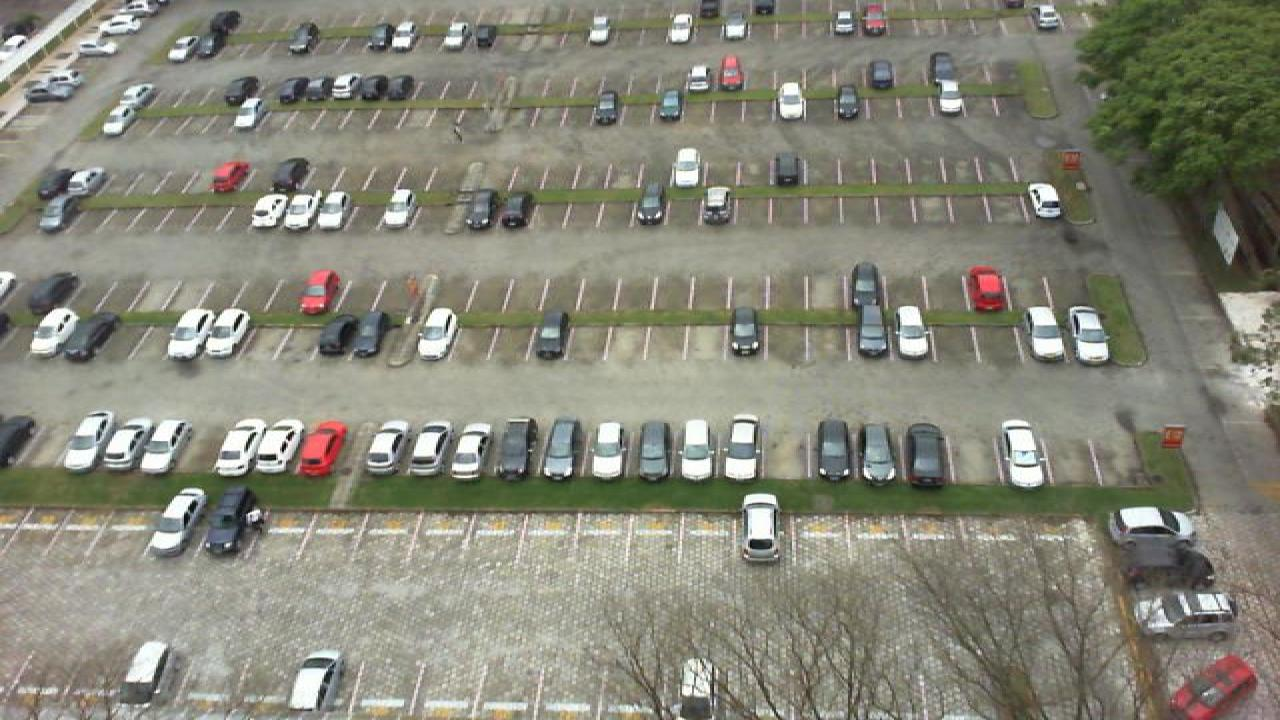Car: (1170, 655, 1260, 720), (1130, 590, 1236, 640), (204, 485, 266, 558), (144, 487, 204, 559), (286, 649, 346, 720), (1108, 506, 1198, 548), (118, 641, 172, 709), (1000, 418, 1048, 490), (60, 411, 116, 472), (212, 417, 268, 477), (904, 421, 950, 489), (738, 492, 782, 562), (256, 416, 306, 476), (492, 416, 536, 484), (138, 419, 192, 474), (98, 417, 152, 472), (66, 312, 122, 364), (404, 420, 454, 477), (296, 421, 346, 478), (362, 420, 410, 478), (28, 306, 80, 359), (722, 415, 762, 483), (204, 306, 254, 360), (676, 656, 718, 720), (164, 308, 214, 361), (632, 419, 674, 482), (538, 418, 580, 481), (1068, 304, 1112, 364), (316, 310, 368, 360), (676, 420, 718, 481), (1026, 304, 1070, 360), (448, 421, 490, 479), (814, 419, 852, 483), (860, 420, 898, 483), (416, 305, 458, 362), (588, 420, 626, 482), (28, 272, 82, 315), (894, 304, 934, 360), (296, 269, 342, 317), (964, 264, 1008, 314), (852, 306, 892, 360), (354, 310, 396, 359), (0, 415, 38, 469), (532, 311, 572, 361), (728, 305, 764, 359), (846, 261, 884, 311), (24, 70, 84, 101), (270, 155, 312, 195), (462, 187, 498, 232), (498, 189, 536, 231), (210, 160, 254, 196), (312, 190, 350, 231), (382, 186, 418, 229), (250, 194, 292, 230), (284, 191, 320, 231), (634, 184, 666, 228), (670, 146, 702, 190), (1028, 180, 1064, 219), (232, 97, 268, 134), (8, 200, 46, 235), (222, 74, 262, 107), (700, 185, 732, 226), (68, 168, 108, 200), (774, 81, 806, 121), (118, 81, 158, 113), (102, 100, 138, 135), (770, 153, 804, 189), (36, 170, 74, 202), (652, 89, 684, 125), (286, 20, 318, 55), (276, 75, 312, 106), (716, 54, 746, 91), (860, 2, 890, 38), (196, 27, 228, 60), (592, 91, 622, 126), (832, 86, 862, 120), (934, 81, 964, 115), (928, 52, 958, 86), (684, 63, 714, 97), (166, 36, 202, 64), (1032, 2, 1064, 33), (364, 21, 394, 54), (76, 38, 118, 61), (868, 57, 896, 91), (328, 74, 362, 102), (304, 76, 336, 105), (358, 74, 388, 104), (210, 9, 242, 37), (828, 7, 858, 36), (718, 10, 746, 41), (470, 21, 498, 52), (440, 21, 468, 52), (664, 12, 690, 45), (416, 19, 442, 52), (386, 74, 416, 102), (110, 14, 150, 34), (584, 15, 610, 45), (96, 29, 134, 46), (130, 2, 166, 19), (56, 66, 84, 84)
